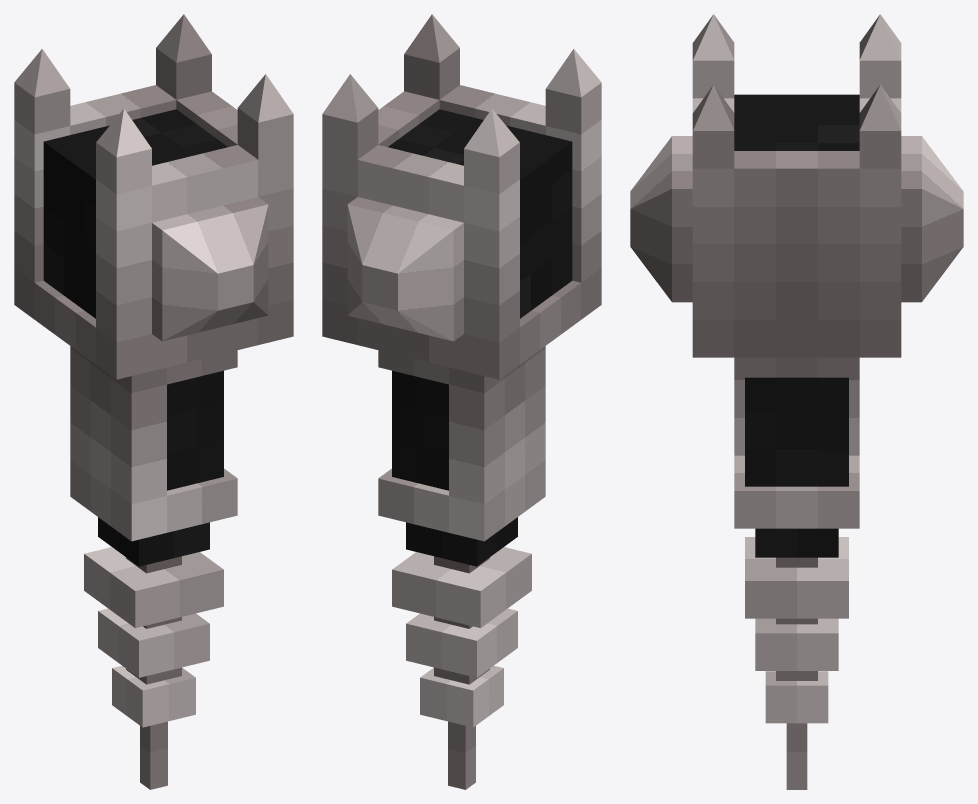
Rendered from arm_blaster_l.obj.
3 views of the same model, side by side, from view 1: azimuth 30°, elevation 25°; view 2: azimuth 150°, elevation 25°; view 3: azimuth 270°, elevation 25° (orthographic).
Visible parts, largest first — view 1: ARM_LEFT_BLASTER_Cube.028, ARM_LEFT_DECO_IRON_Cube.151; view 2: ARM_LEFT_BLASTER_Cube.028, ARM_LEFT_DECO_IRON_Cube.151; view 3: ARM_LEFT_BLASTER_Cube.028, ARM_LEFT_DECO_IRON_Cube.151.
Boxes of the visible parts, x1,y1,x2,y2 form: ARM_LEFT_BLASTER_Cube.028: (14, 85, 293, 789); ARM_LEFT_DECO_IRON_Cube.151: (14, 14, 293, 341); ARM_LEFT_BLASTER_Cube.028: (322, 85, 601, 789); ARM_LEFT_DECO_IRON_Cube.151: (322, 14, 601, 341); ARM_LEFT_BLASTER_Cube.028: (692, 94, 901, 789); ARM_LEFT_DECO_IRON_Cube.151: (630, 14, 963, 302).
Size of the model in its own units: 0.3125 by 1.22 by 0.5.
